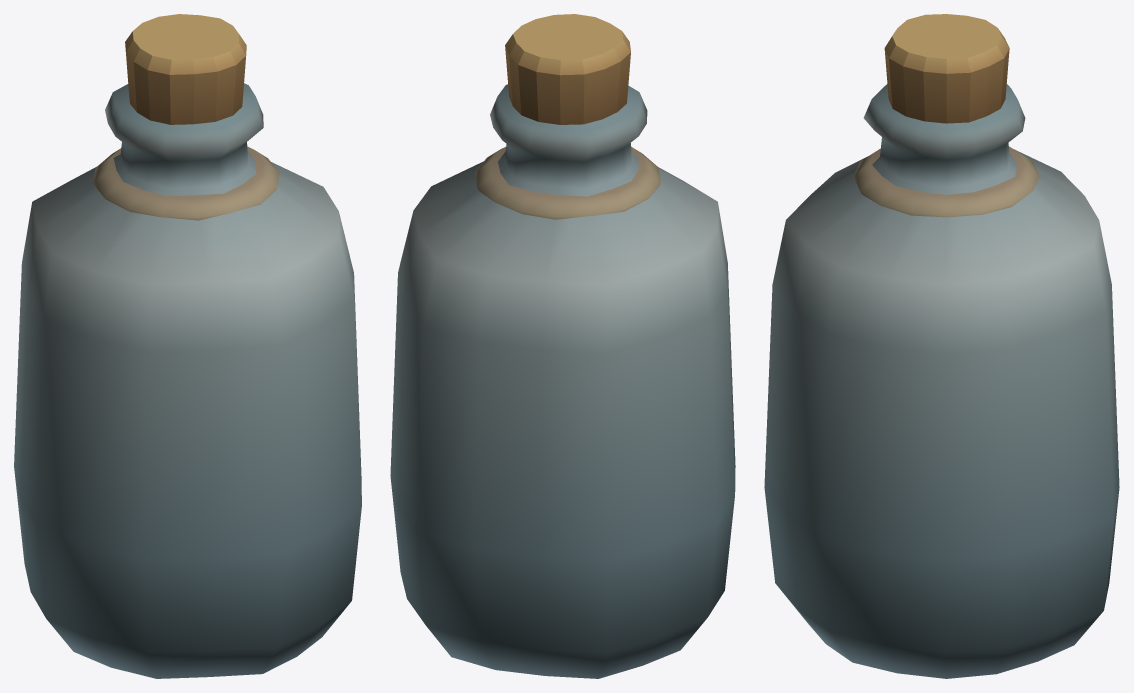
Rendered from building-ruins-bottleWater-v3.glb.
The picture shows the model from 3 angles, left to right: view 1: azimuth 30°, elevation 25°; view 2: azimuth 150°, elevation 25°; view 3: azimuth 270°, elevation 25°; orthographic projection.
Parts seen in each view (by area): view 1: 0_ruins-bottleWater; view 2: 0_ruins-bottleWater; view 3: 0_ruins-bottleWater.
Part boxes in pixels (x1,y1,x2,y2): 0_ruins-bottleWater: [14, 14, 361, 678]; 0_ruins-bottleWater: [390, 14, 735, 678]; 0_ruins-bottleWater: [764, 14, 1119, 678].
Size of the model in its own units: 0.1369 by 0.25 by 0.1379.
